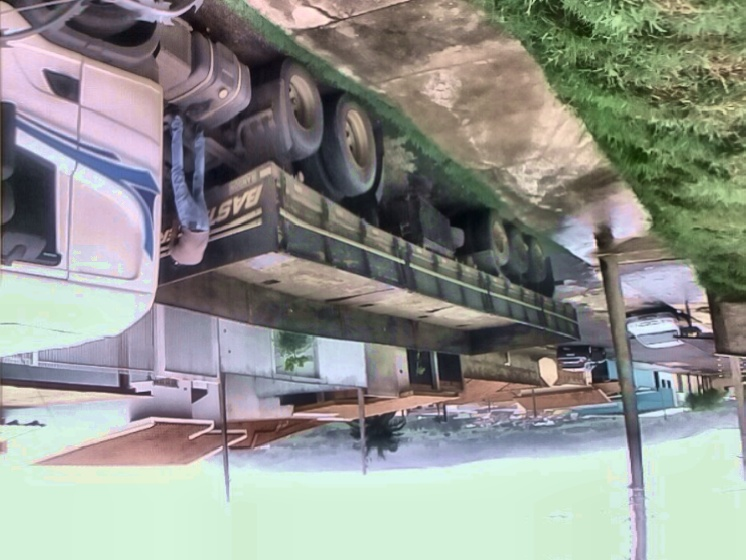person: (164, 110, 211, 266)
